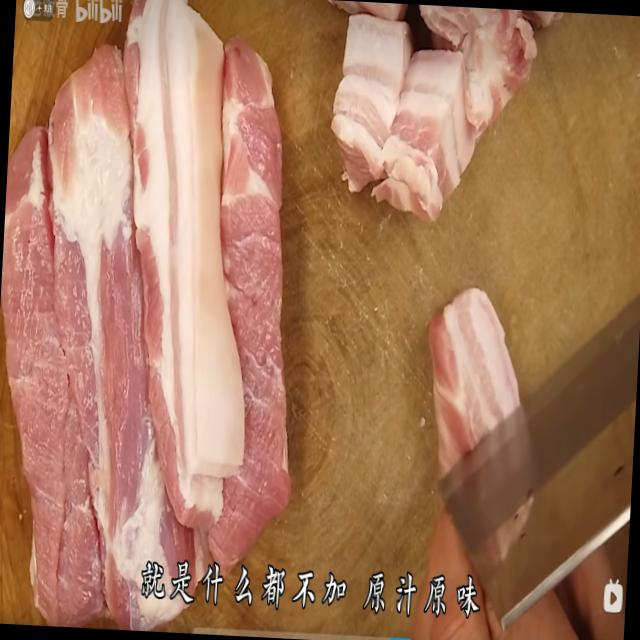--: (0, 0, 325, 565), (339, 6, 500, 206), (421, 281, 511, 428)
